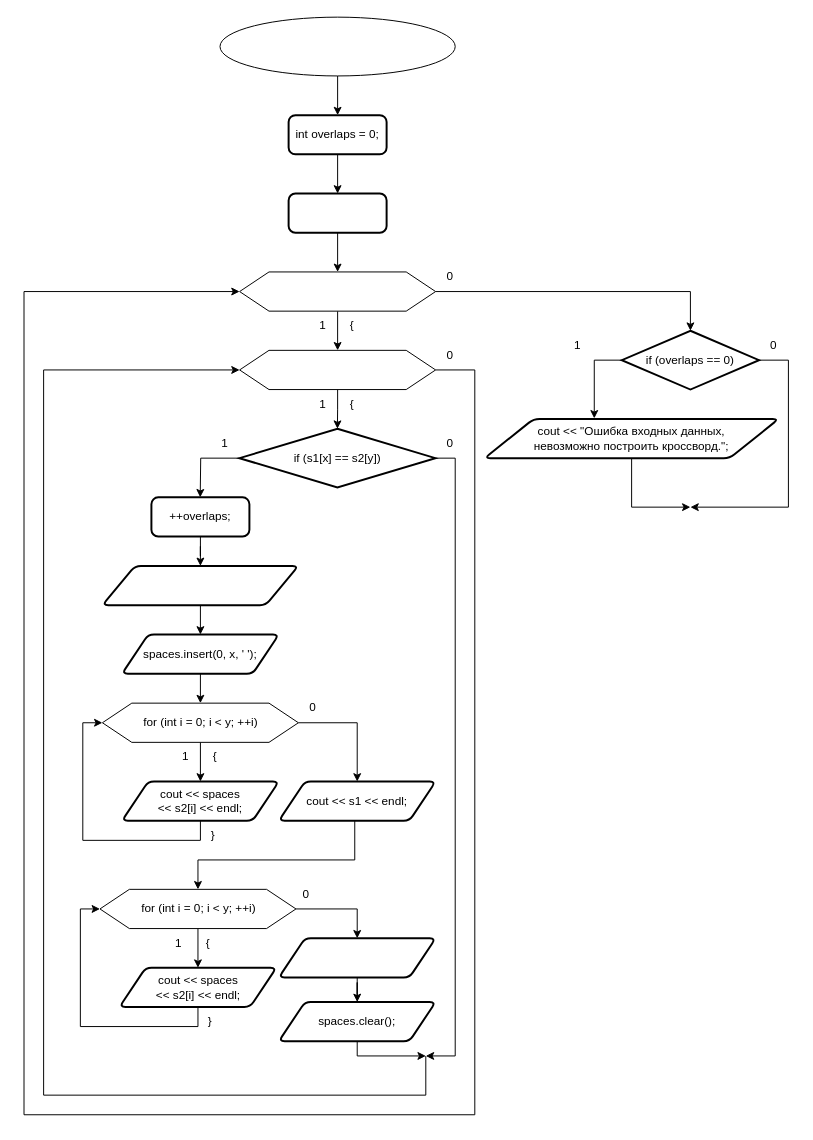
Some shapes in this 813 by 1140 pixel diagram are drawn without their labels. The shapes that lost their labels are listed below. From the top down, each one's centre as x and y in pixels, then its label:
the point at 337,46: void find_overlaps(string s1, string s2) {
the point at 337,212: string spaces;
the point at 337,291: for (int x = 0; x < s1.size(); ++x)
the point at 337,369: for (int y = 0; y < s2.size(); ++y)
the point at 200,585: cout << "Кроссворд " << overlaps << ":" << endl;
the point at 356,957: cout << endl;
